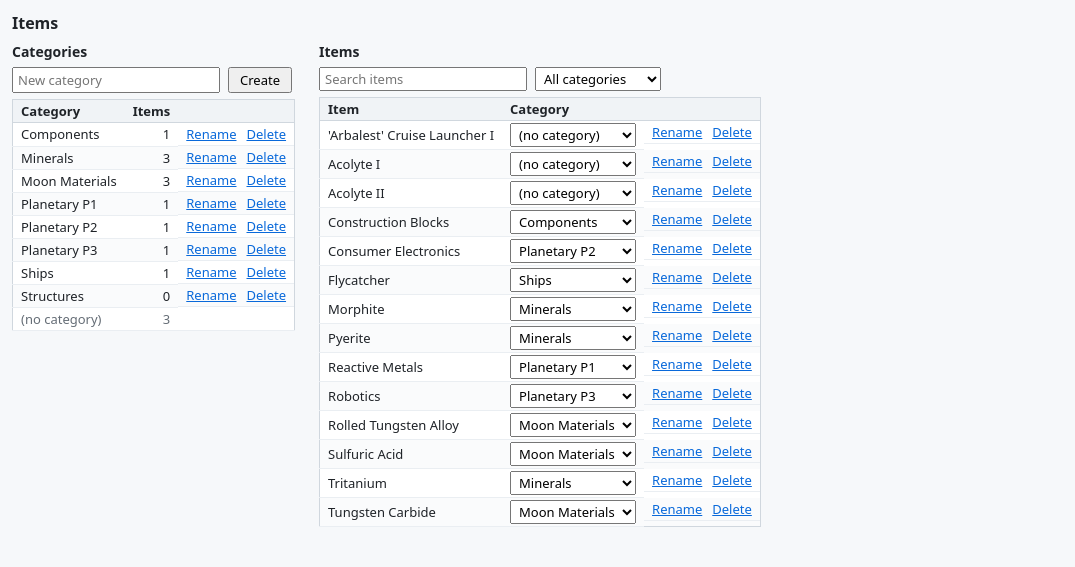
Test: ItemsSection › refuses to delete an item that holds stock, stating the quantity
The width and height of the screenshot is (1075, 567).
Click the button with aria-label "Delete 'Arbalest' Cruise Launcher I" at [732, 132], box [712,123,752,141]
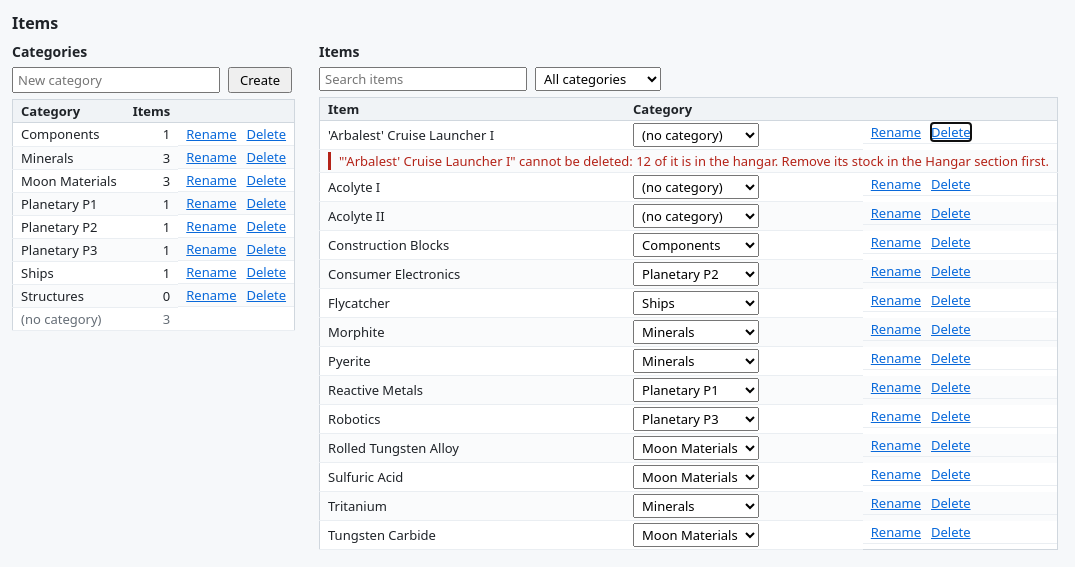
Check: the message shows "\"'Arbalest' Cruise Launcher I\" cannot be deleted: 12 of it is in the hangar. Remove its stock in the Hangar section first.", box [339,152,1049,170]
